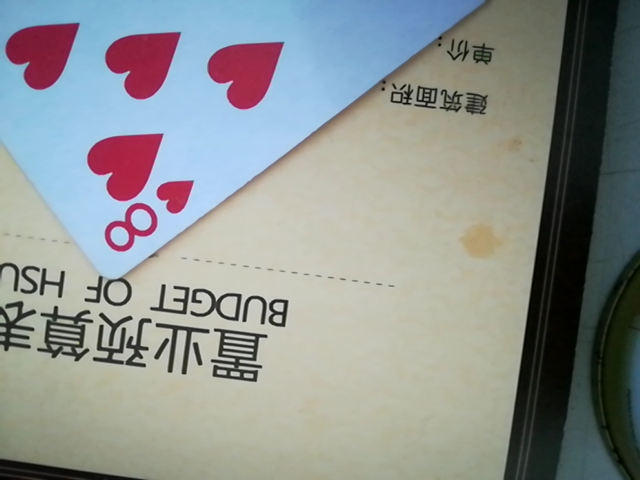hx 8: (4, 0, 527, 285)
